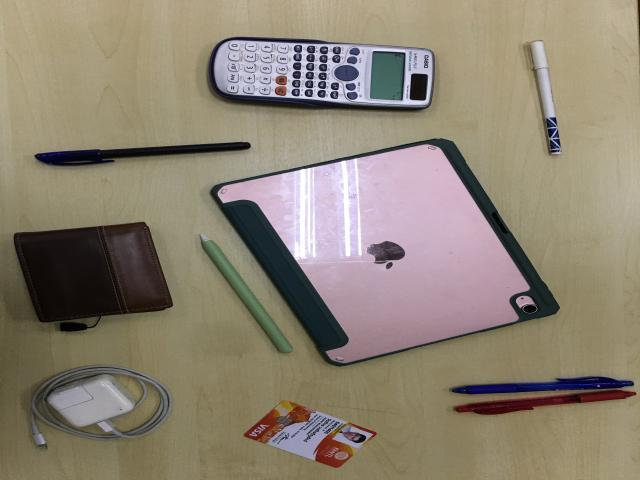Pen: (452, 377, 635, 416), (33, 142, 252, 168), (525, 40, 565, 157)
Wallet: (12, 223, 173, 325)
wire: (22, 366, 172, 450)
